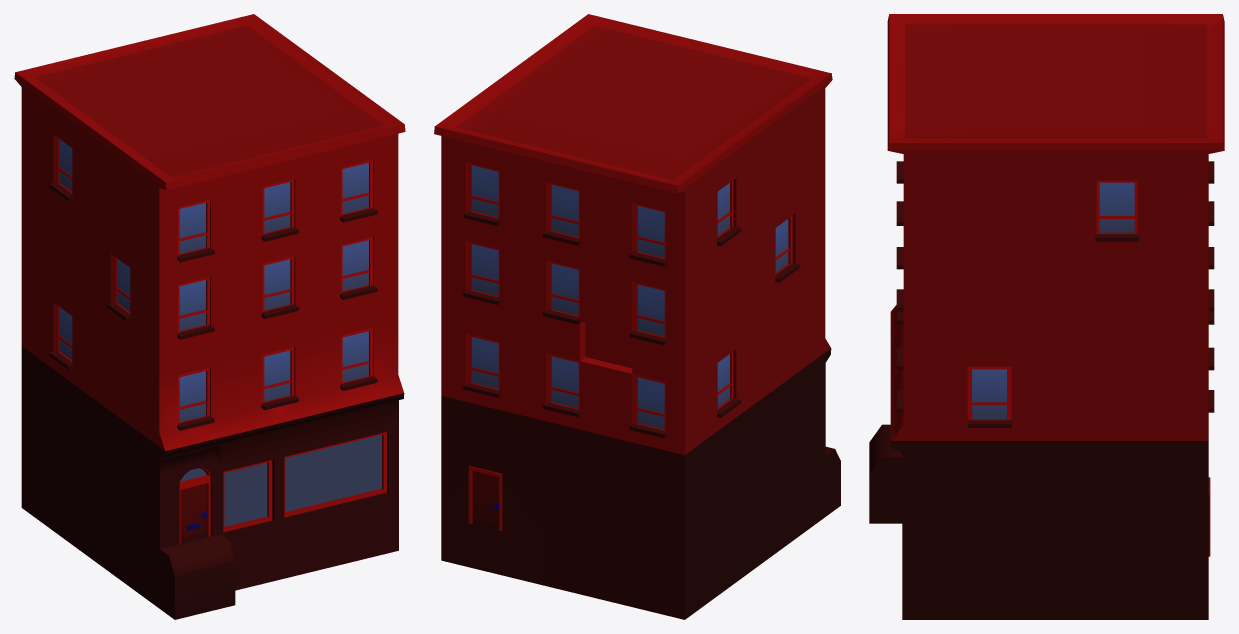
Rendered from RC_ComBuilding13.fbx.
3 views of the same model, side by side, from view 1: azimuth 30°, elevation 25°; view 2: azimuth 150°, elevation 25°; view 3: azimuth 270°, elevation 25° (orthographic). The views are drawn at different scales.
Parts seen in each view (by area): view 1: base.103, windowRefl.073; view 2: base.103, windowRefl.073; view 3: base.103, windowRefl.073.
Boxes of the visible parts, x1,y1,x2,y2 form: base.103: (14, 14, 405, 619); windowRefl.073: (60, 139, 381, 526); base.103: (434, 14, 840, 619); windowRefl.073: (472, 165, 788, 429); base.103: (869, 14, 1224, 619); windowRefl.073: (972, 182, 1134, 419).
Bounding box in the file's own units: 1121 × 1864 × 1258.
